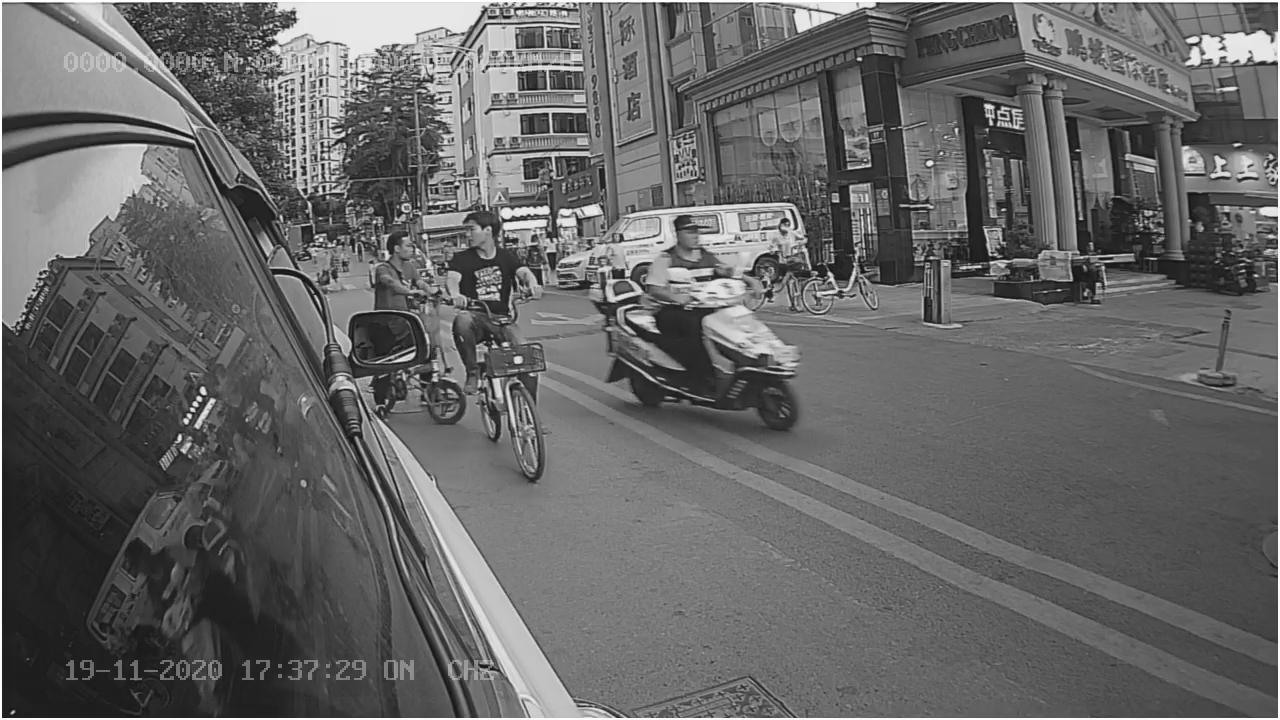person: (447, 208, 532, 294), (645, 207, 736, 283)
